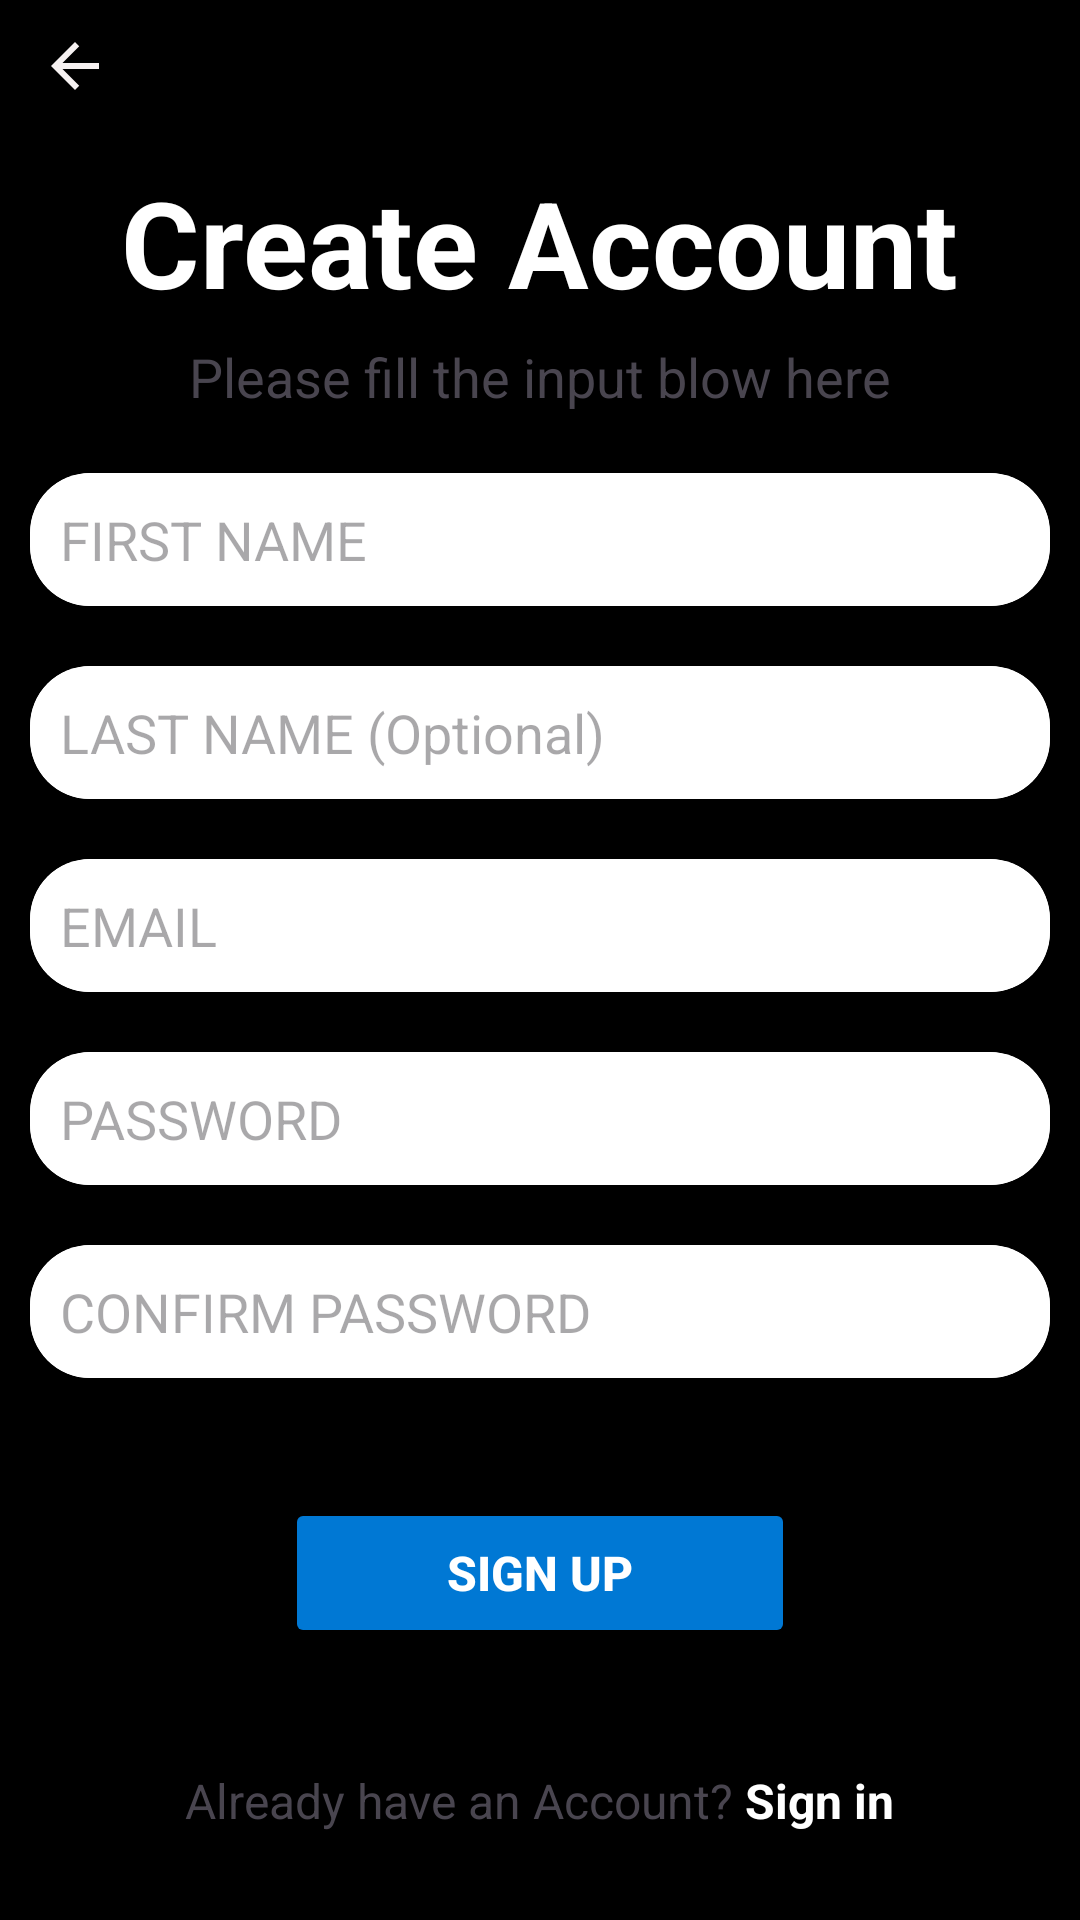

Named icons in this screenshot (1080w x 1920h) and their centers, (x=x, y=y):
arrow back: (x=75, y=66)
